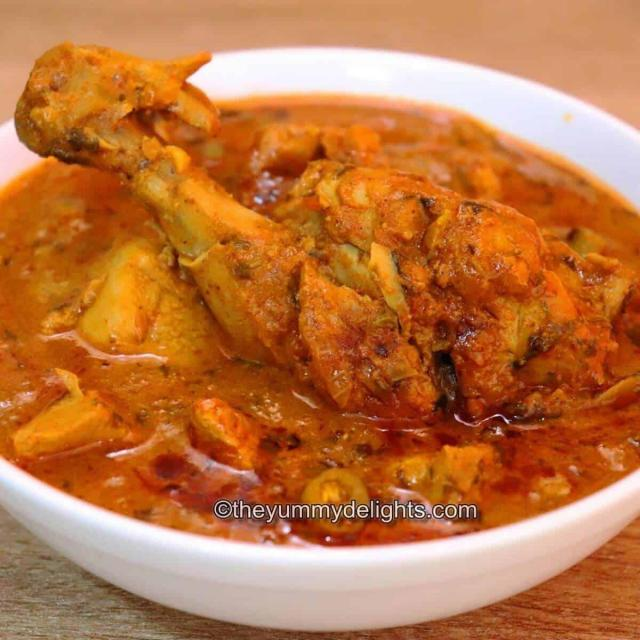chicken: (0, 38, 640, 540)
